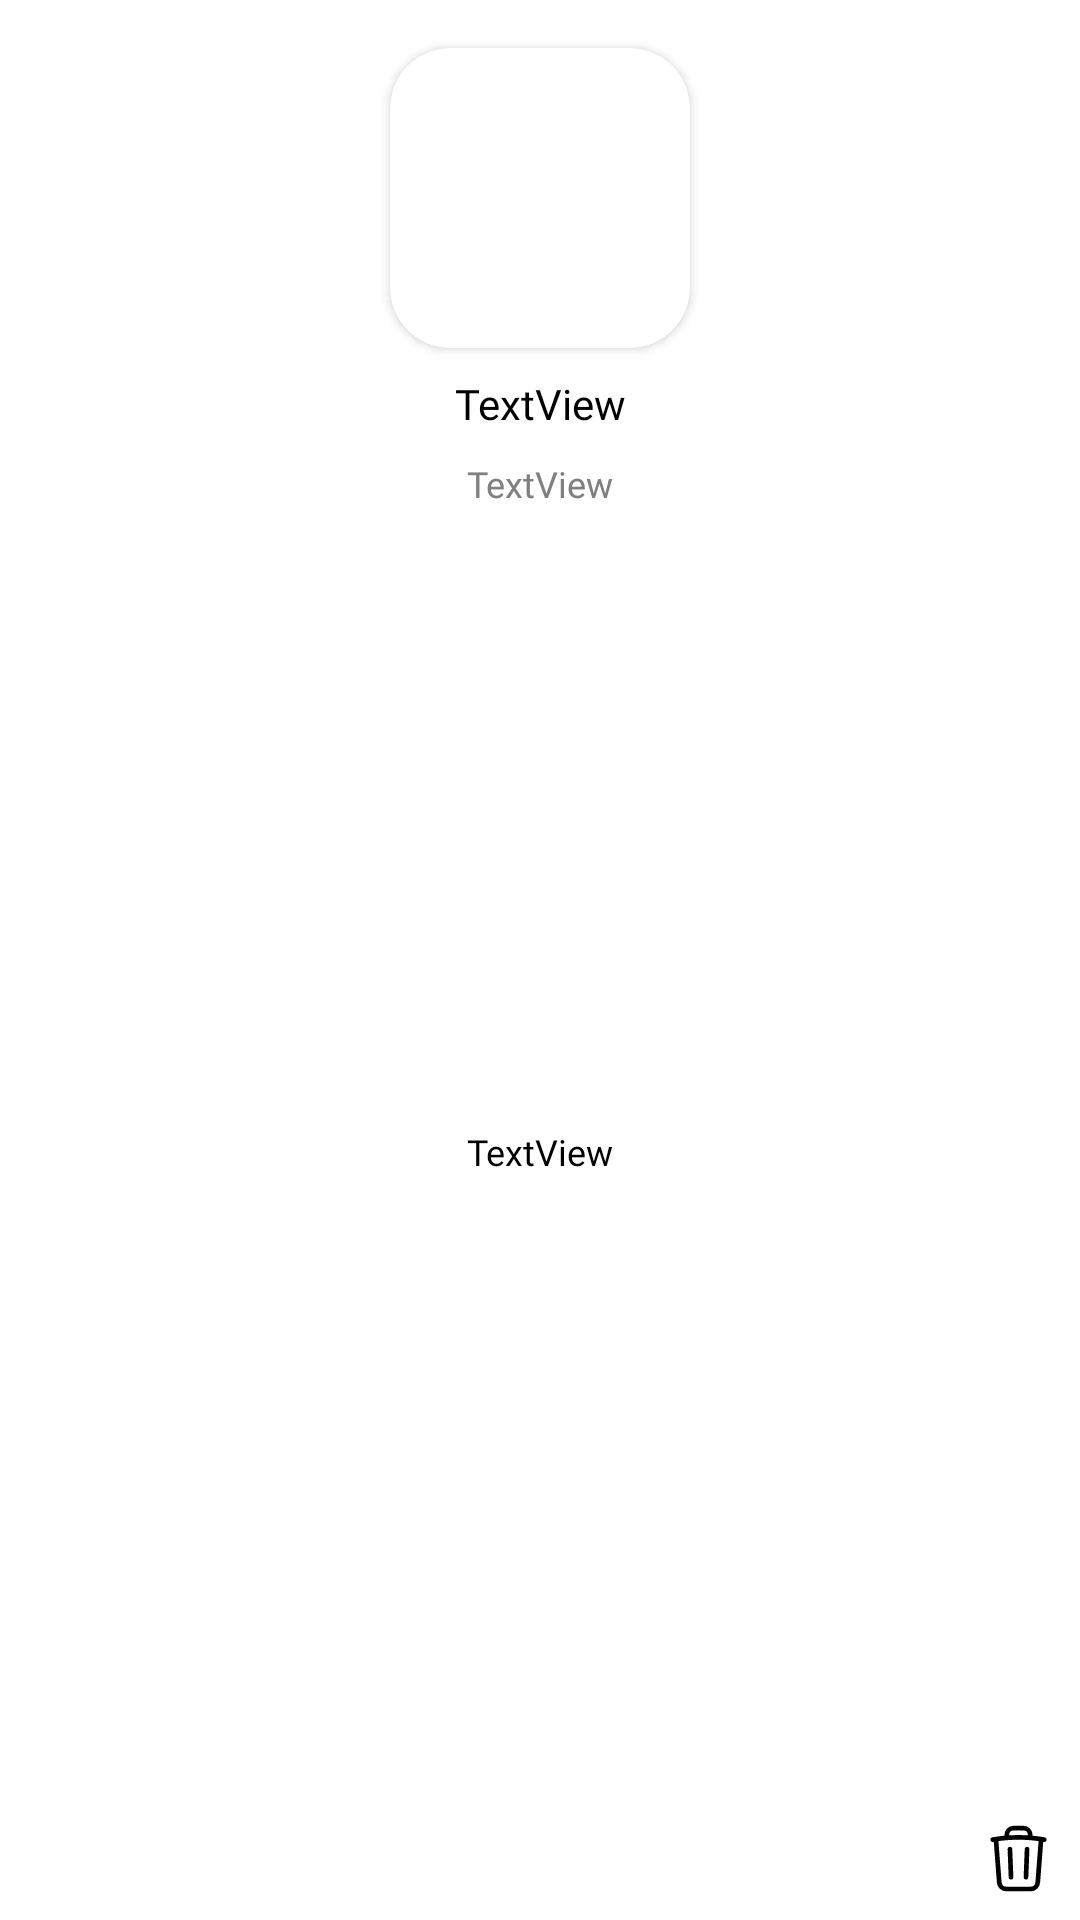

Named icons in this screenshot (1080×1920) and their centers, [x,y]:
trash: [1018,1858]
